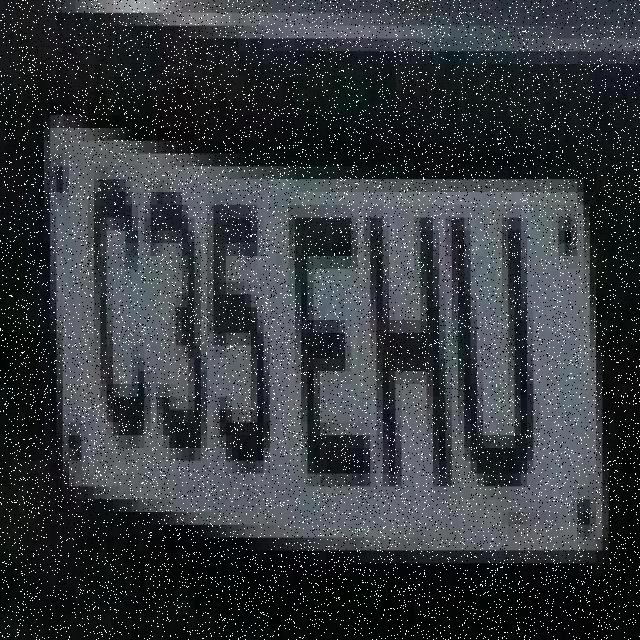licenseplate: (43, 104, 607, 552)
